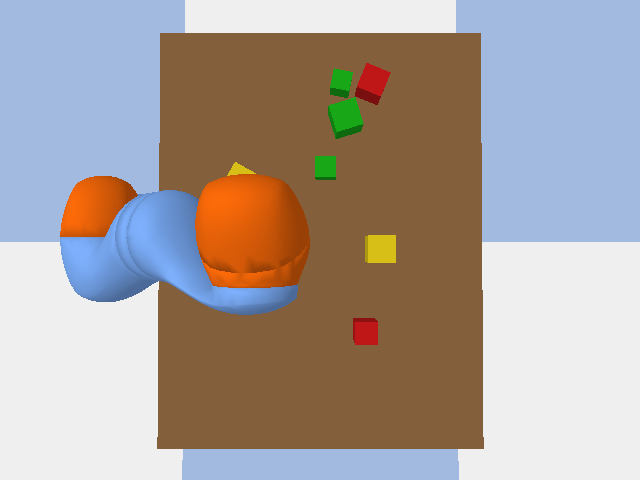green_obj: (328, 97, 363, 138), (330, 68, 352, 97), (315, 156, 335, 179)
red_obj: (355, 63, 390, 104), (353, 318, 377, 344)
yellow_obj: (365, 235, 395, 262), (227, 162, 255, 175)
